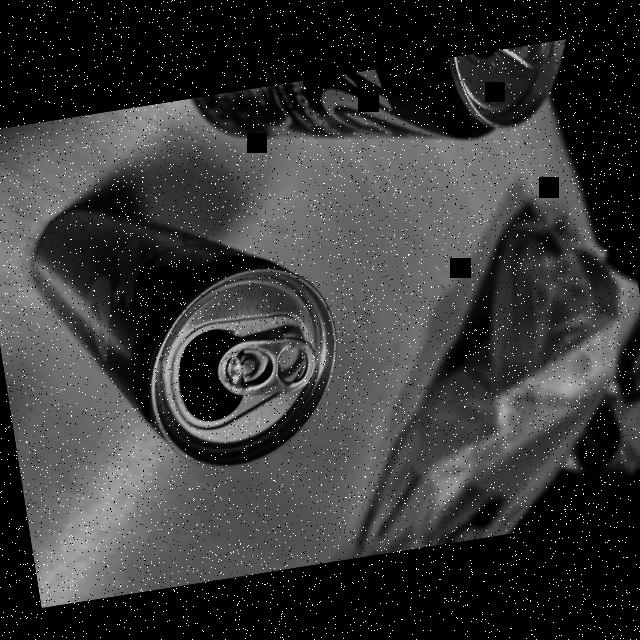can: (26, 158, 354, 491), (195, 38, 580, 180)
